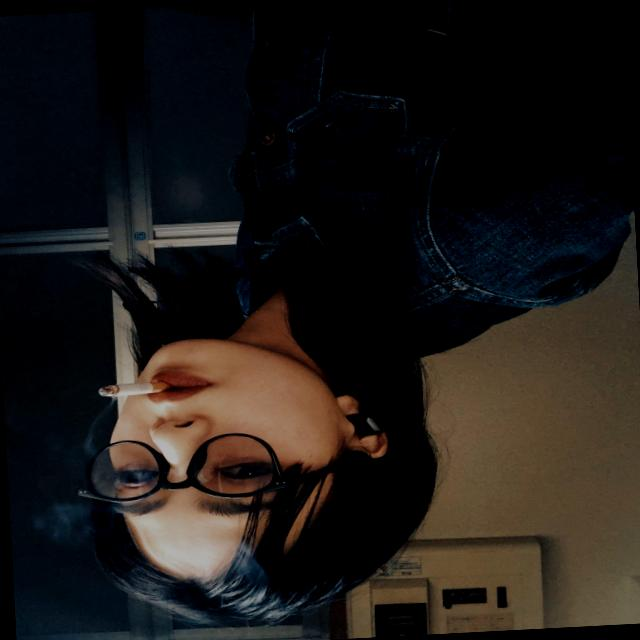cigarette: (84, 362, 202, 414)
